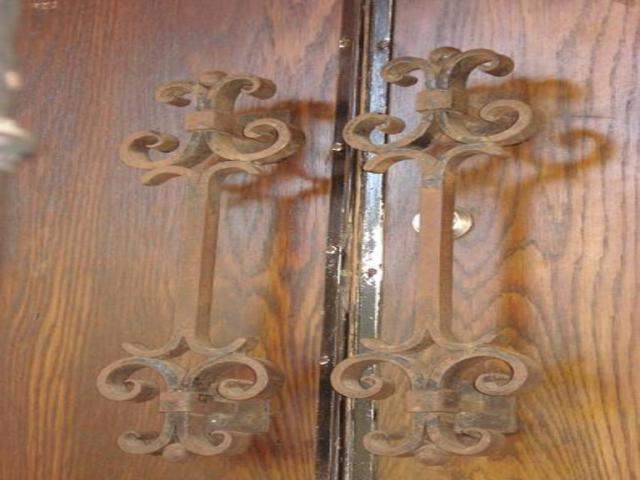Door-handle: (326, 45, 543, 467), (95, 70, 307, 466)
